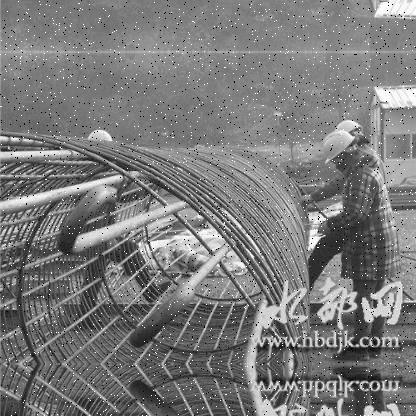Helmet: (316, 119, 354, 168), (332, 109, 369, 149), (84, 124, 122, 154)
